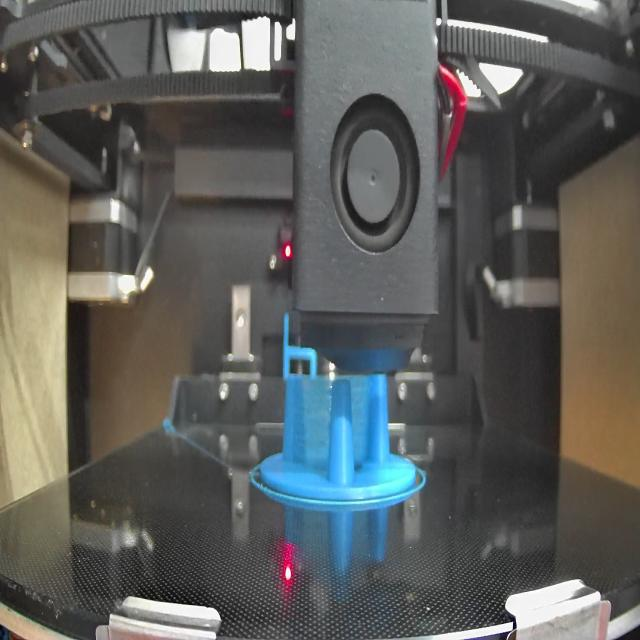stringing: (292, 372, 331, 484), (352, 375, 374, 475)
